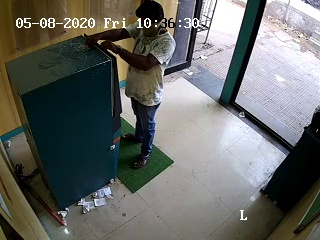open: (176, 4, 265, 112)
